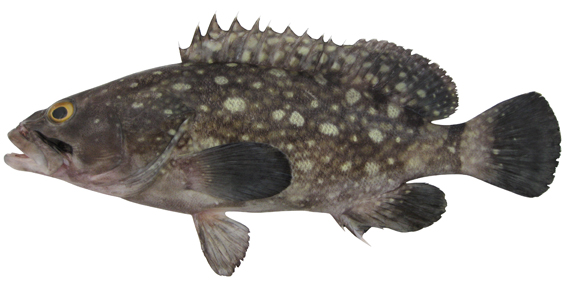fish: (4, 10, 562, 277)
